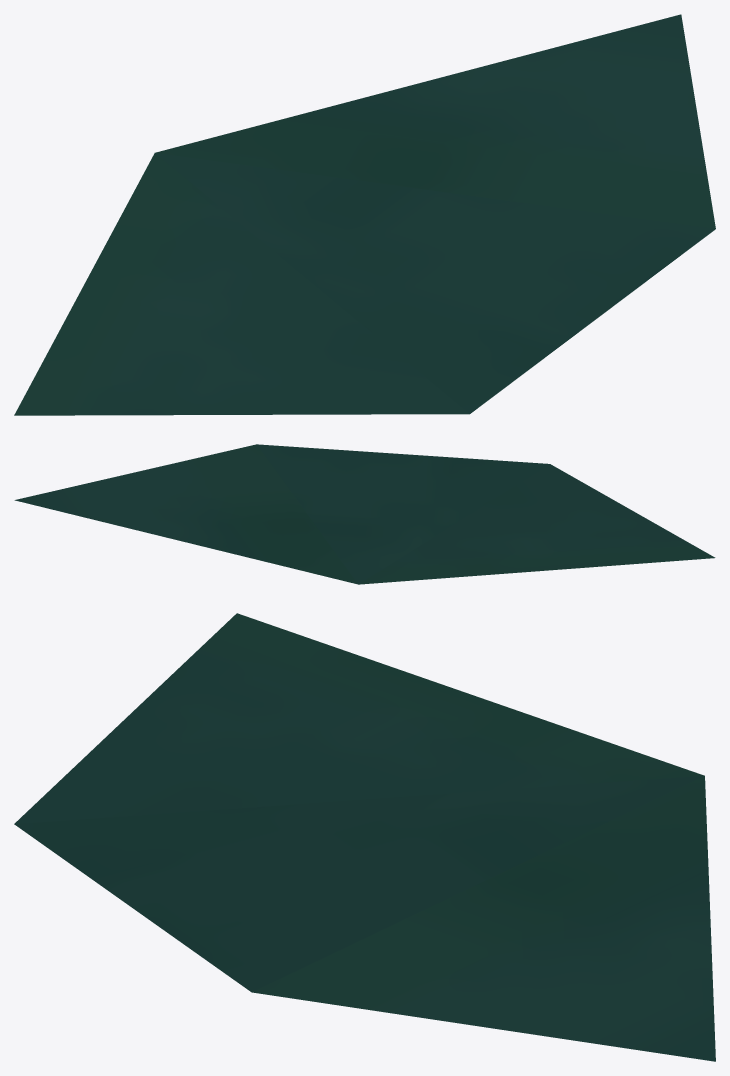
3 renders of one model, top to bottom at view 1: azimuth 30°, elevation 25°; view 2: azimuth 150°, elevation 25°; view 3: azimuth 270°, elevation 25°, orthographic. The views are drawn at different scales.
Size of what is drawn, in the model's own units: 4.97 by 0.238 by 3.05.
1 material, 1 textured.
